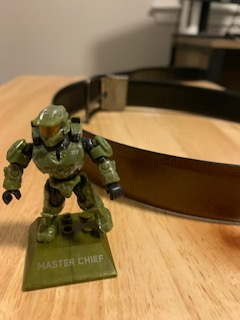chief: (3, 103, 127, 245)
spartan: (1, 101, 125, 243)
